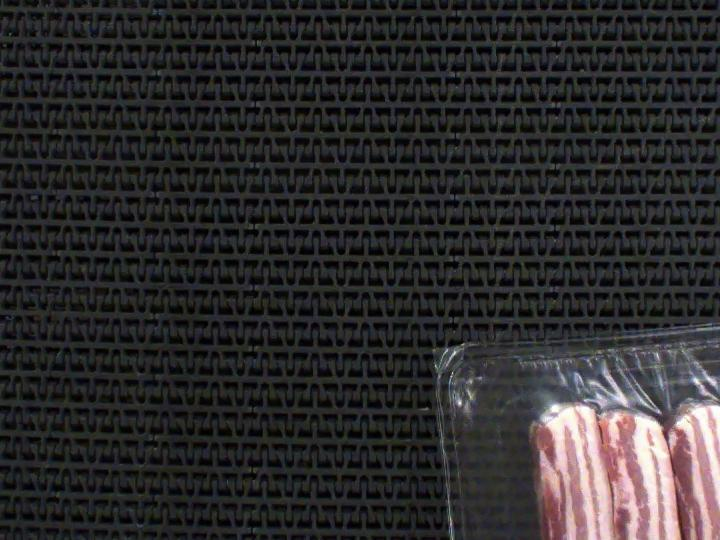unsealed: (428, 323, 720, 540)
